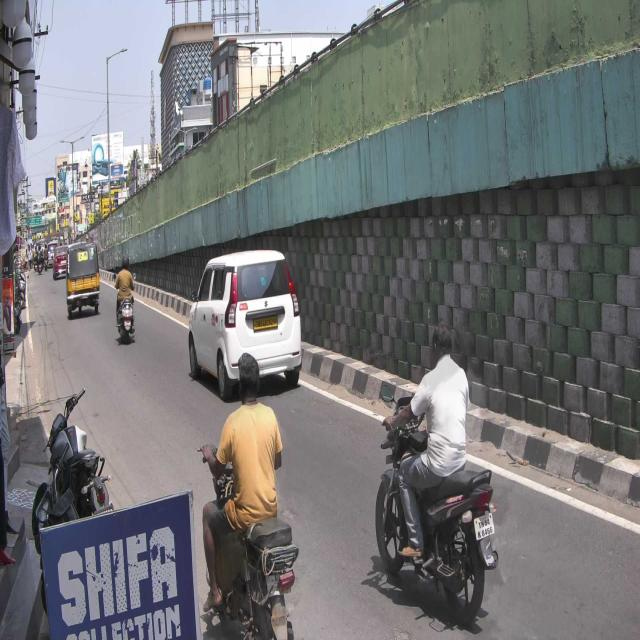single_rider: (375, 321, 498, 622), (199, 348, 303, 640)
